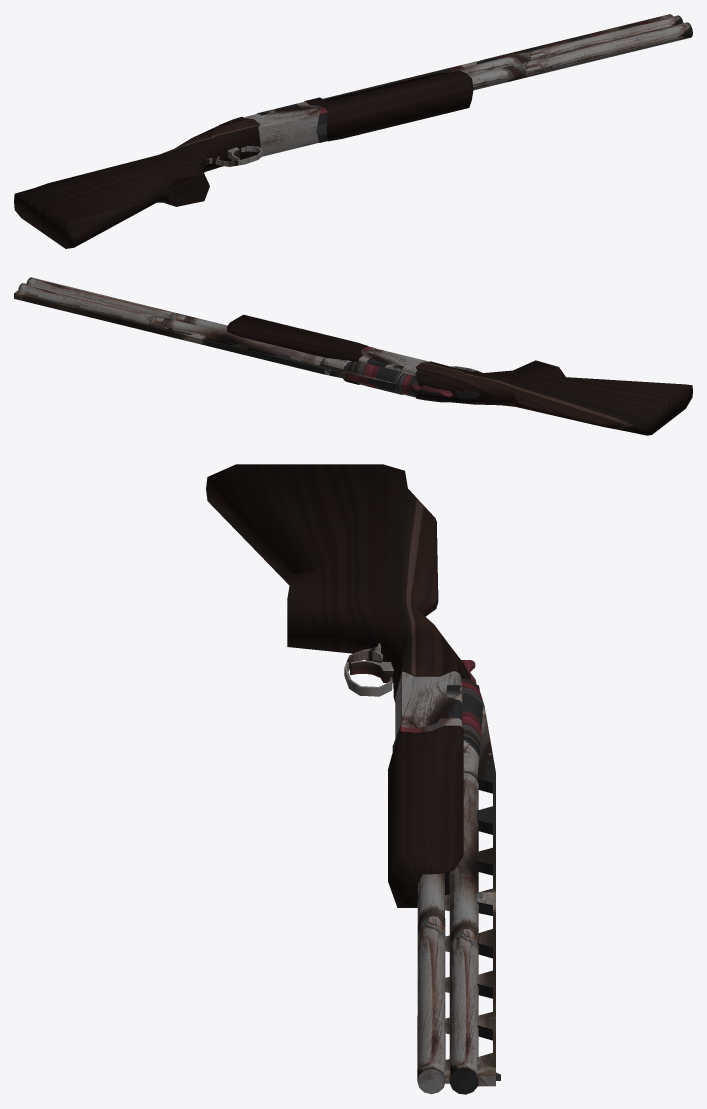
File: t5_weapon_beretta682_world.glb
3 views of the same model, one above another, from view 1: azimuth 30°, elevation 25°; view 2: azimuth 150°, elevation 25°; view 3: azimuth 270°, elevation 25° (orthographic). The views are drawn at different scales.
Visible parts, largest first — view 1: t5_weapon_beretta682_world; view 2: t5_weapon_beretta682_world; view 3: t5_weapon_beretta682_world.
Boxes of the visible parts, x1=… form: t5_weapon_beretta682_world: x1=14, y1=14, x2=692, y2=248; t5_weapon_beretta682_world: x1=14, y1=277, x2=692, y2=435; t5_weapon_beretta682_world: x1=206, y1=464, x2=500, y2=1094.
Bounding box in the file's own units: 1.1 × 0.0468 × 0.2297.
2 materials, 2 textured.
